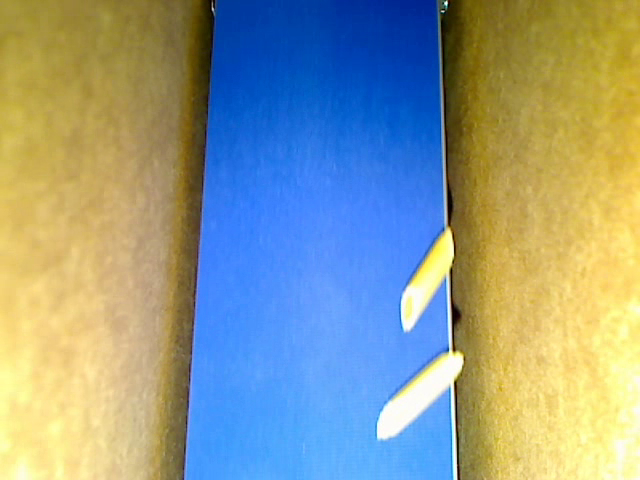penne: (375, 349, 463, 439), (399, 226, 454, 333)
